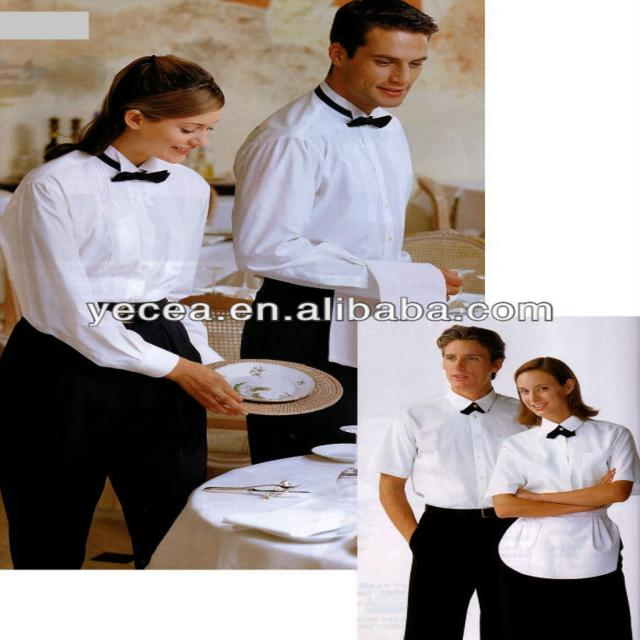nomask: (349, 25, 432, 109), (144, 102, 222, 164), (438, 340, 494, 392), (514, 372, 562, 414)
